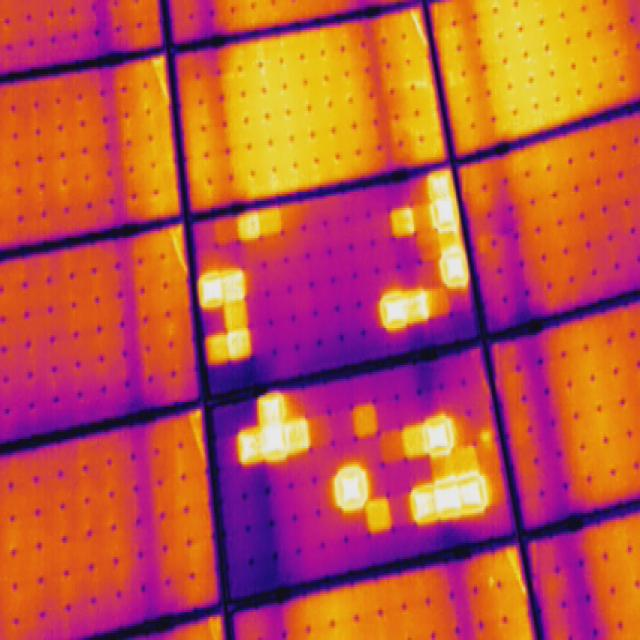hotspot group: (397, 408, 493, 531), (197, 257, 259, 370), (233, 391, 316, 471), (423, 168, 473, 292), (330, 459, 398, 541), (375, 276, 439, 338), (234, 203, 289, 247), (388, 201, 423, 245)
panel with hotspots: (207, 342, 524, 608), (186, 161, 485, 400)
